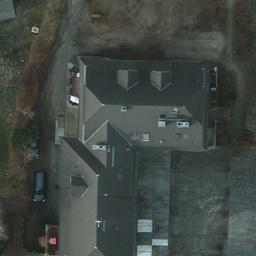car: (22, 125, 44, 161), (32, 171, 49, 205)
